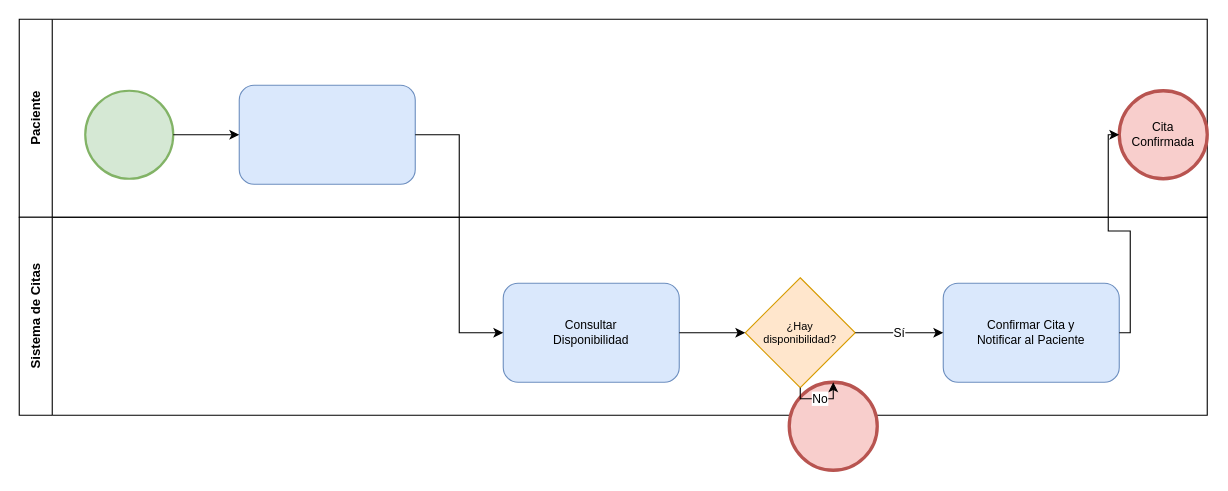
This 1228x491 diagram has some shape labels left out. Each missing label, with the centre of its shape:
"Paciente decide agendar cita" goes at point 129,134.
"Seleccionar Especialidad y Médico" goes at point 326,134.
"Sin Disponibilidad" goes at point 832,425.
